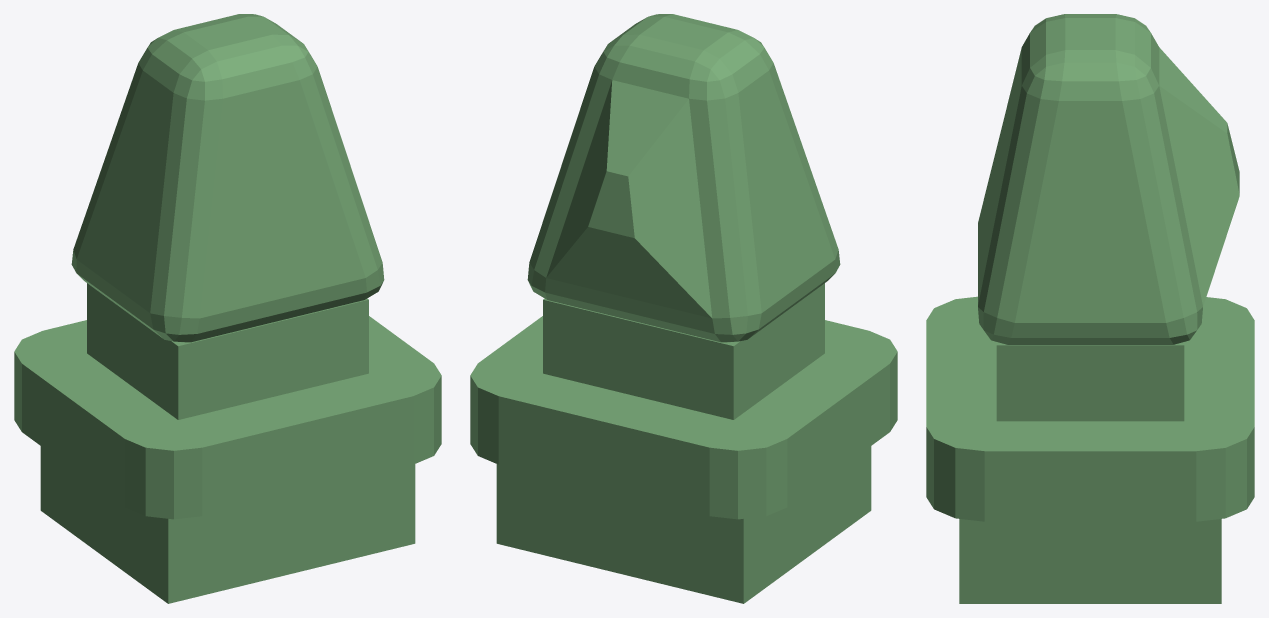
The model's file is Figure_6.fbx.
The picture shows the model from 3 angles, left to right: view 1: azimuth 30°, elevation 25°; view 2: azimuth 150°, elevation 25°; view 3: azimuth 270°, elevation 25°; orthographic projection. The views are drawn at different scales.
Parts seen in each view (by area): view 1: Figure_6; view 2: Figure_6; view 3: Figure_6.
Boxes of the visible parts, left/top/right/bottom form: Figure_6: left=14, top=14, right=441, bottom=603; Figure_6: left=470, top=14, right=897, bottom=603; Figure_6: left=926, top=14, right=1254, bottom=603.
Bounding box in the file's own units: 0.8757 × 1.34 × 0.7828.
